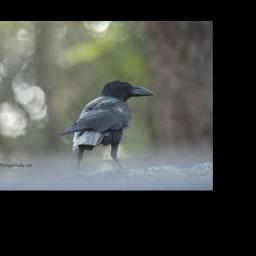Crow: (58, 80, 155, 172)
